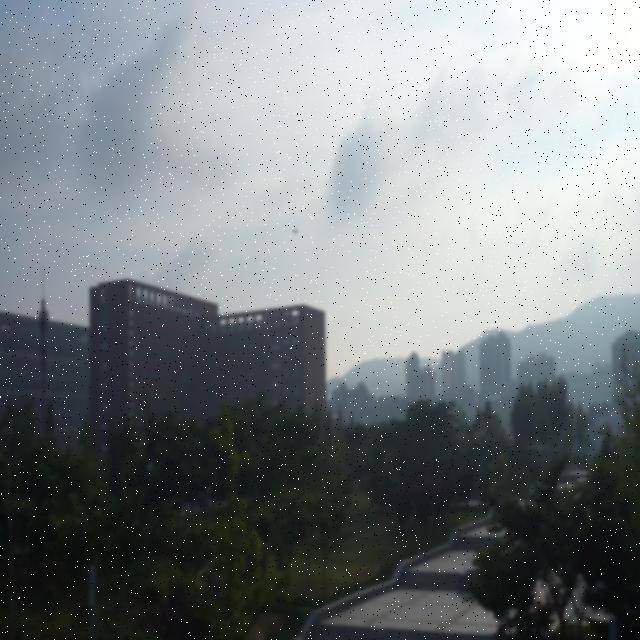UAV: (291, 228, 298, 234)
